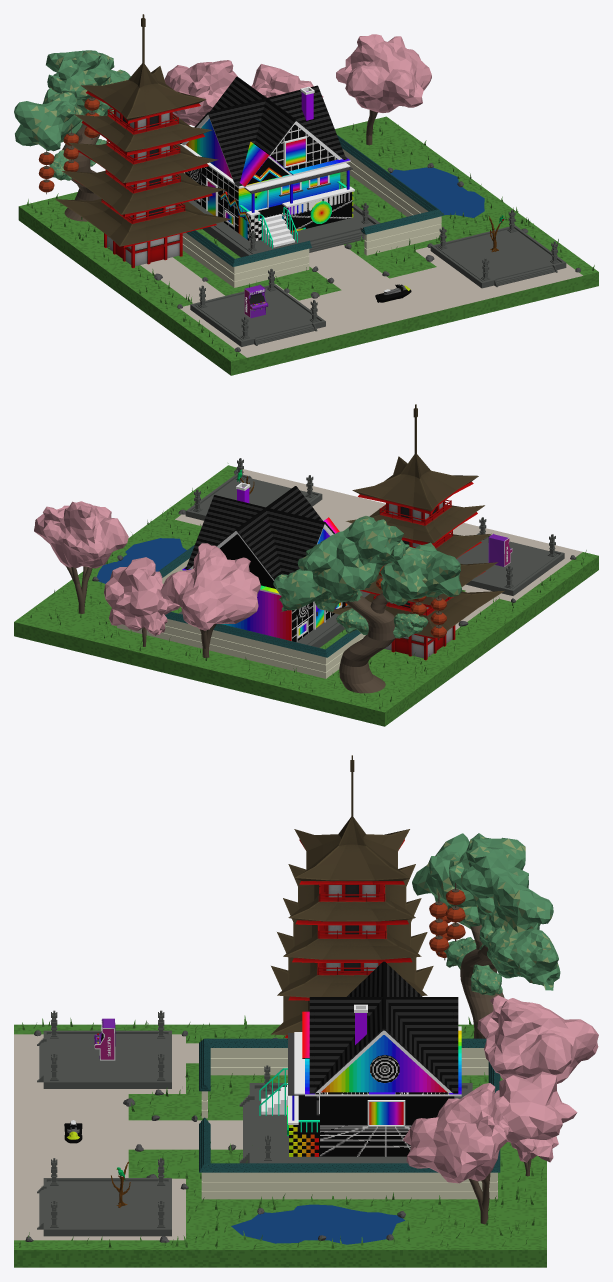
3 views of the same model, one above another, from view 1: azimuth 30°, elevation 25°; view 2: azimuth 150°, elevation 25°; view 3: azimuth 270°, elevation 25° (orthographic). The views are drawn at different scales.
Visible parts, largest first — view 1: Cube.005, Cube.1320, OBJRANDOM_ARCADE; view 2: Cube.005, Cube.1320, OBJRANDOM_ARCADE; view 3: Cube.005, Cube.1320, OBJRANDOM_ARCADE.
Boxes of the visible parts, x1=… form: Cube.005: x1=14, y1=14, x2=598, y2=375; Cube.1320: x1=179, y1=76, x2=354, y2=248; OBJRANDOM_ARCADE: x1=244, y1=284, x2=268, y2=318; Cube.005: x1=14, y1=404, x2=598, y2=726; Cube.1320: x1=182, y1=482, x2=347, y2=642; OBJRANDOM_ARCADE: x1=488, y1=533, x2=512, y2=566; Cube.005: x1=14, y1=755, x2=598, y2=1267; Cube.1320: x1=259, y1=961, x2=461, y2=1156; OBJRANDOM_ARCADE: x1=94, y1=1018, x2=115, y2=1060.
Size of the model in its own units: 4528 by 2706 by 4389.
40 materials, 7 textured.
